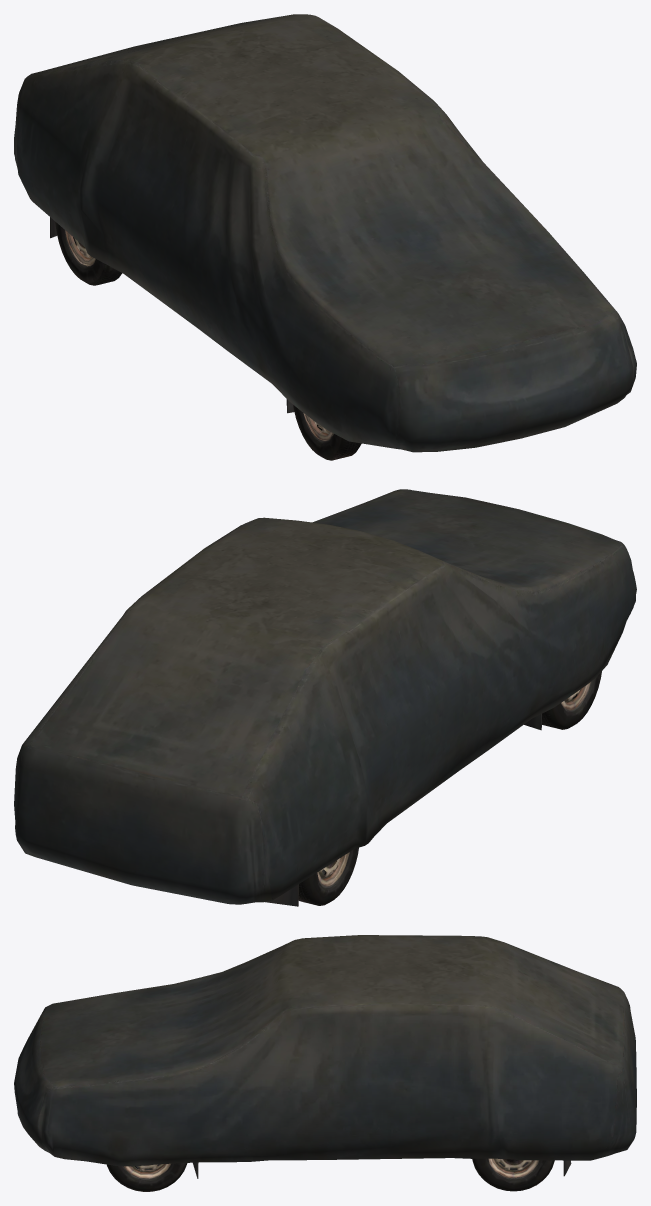
File: covered_car.glb
3 views of the same model, one above another, from view 1: azimuth 30°, elevation 25°; view 2: azimuth 150°, elevation 25°; view 3: azimuth 270°, elevation 25° (orthographic). The views are drawn at different scales.
Parts seen in each view (by area): view 1: covered_car_wheel_01; view 2: covered_car_wheel_01; view 3: covered_car_wheel_01.
Part boxes in pixels (left/top/right/bottom): covered_car_wheel_01: left=14, top=14, right=636, bottom=460; covered_car_wheel_01: left=14, top=489, right=636, bottom=906; covered_car_wheel_01: left=14, top=935, right=636, bottom=1191.
Bounding box in the file's own units: 1.79 × 1.41 × 4.38.
Materials: 1 (1 with a texture image).
